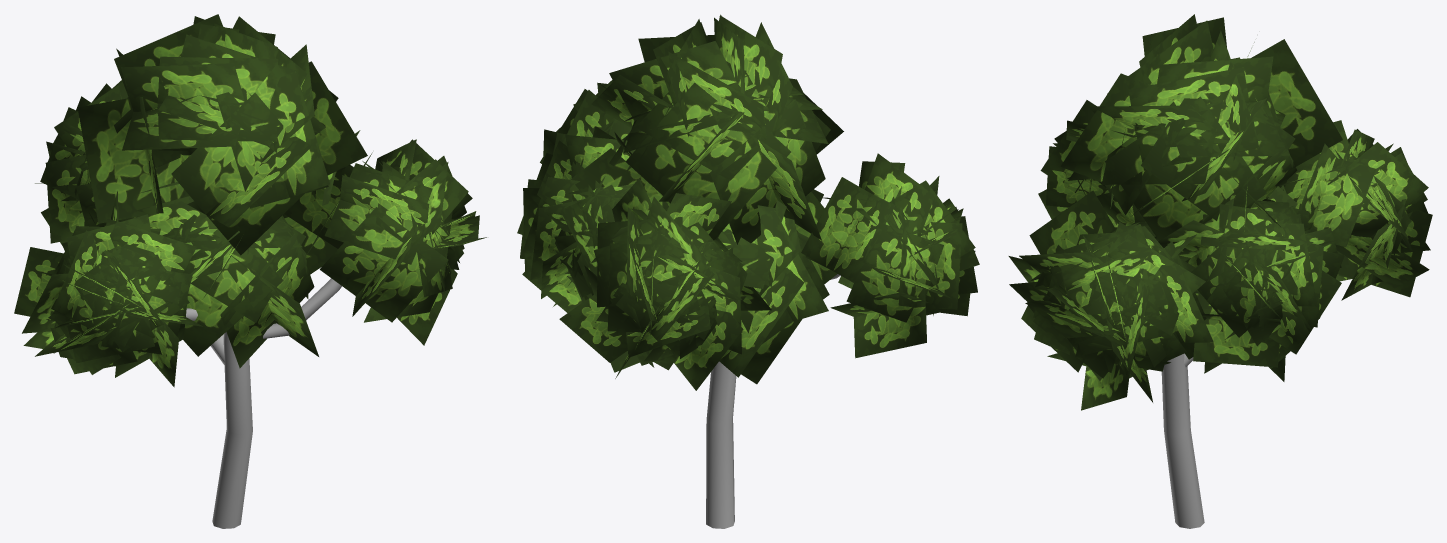
The model's file is tree_2.fbx.
3 views of the same model, side by side, from view 1: azimuth 30°, elevation 25°; view 2: azimuth 150°, elevation 25°; view 3: azimuth 270°, elevation 25° (orthographic).
Parts seen in each view (by area): view 1: tree_2; view 2: tree_2; view 3: tree_2.
Boxes of the visible parts, x1,y1,x2,y2 form: tree_2: (14, 14, 486, 528); tree_2: (517, 14, 979, 528); tree_2: (1008, 14, 1432, 528).
Size of the model in its own units: 2066 by 2228 by 1759.
